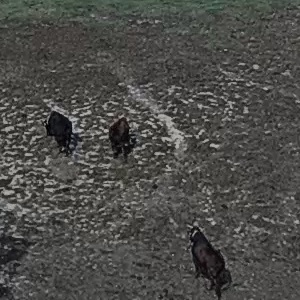cow: (170, 213, 243, 300), (35, 98, 77, 177), (104, 107, 141, 168)
